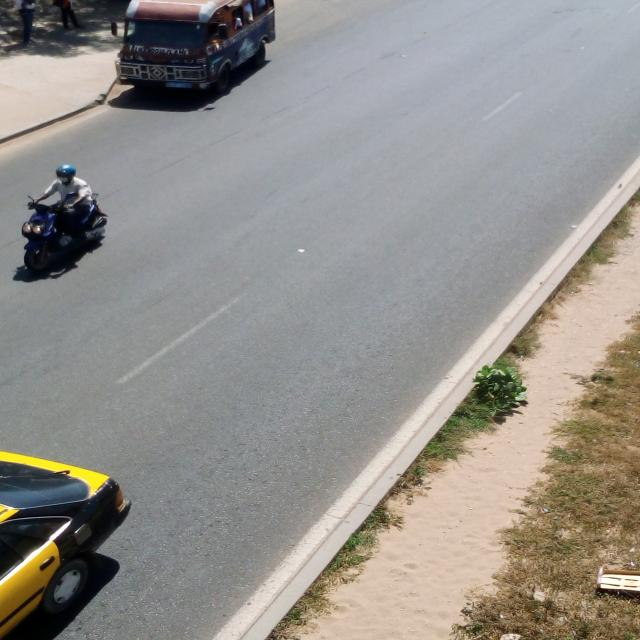car rapide: (118, 1, 276, 92)
moto: (23, 195, 108, 274)
taxi: (1, 452, 131, 637)
